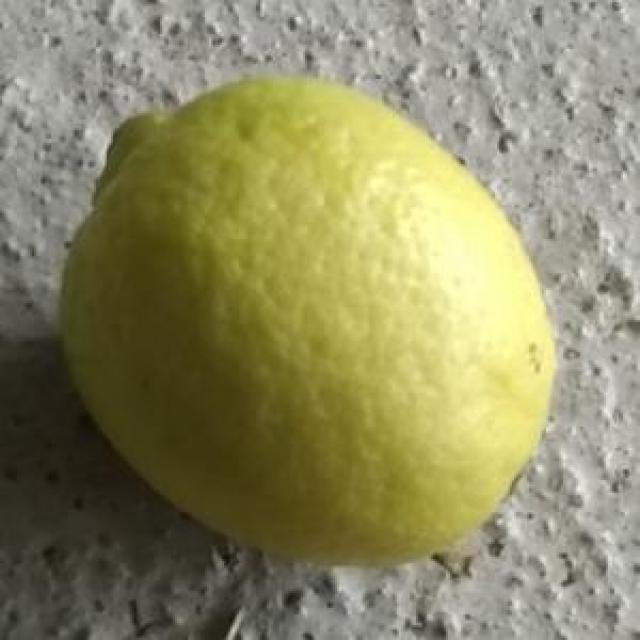lemon: (63, 70, 560, 574)
